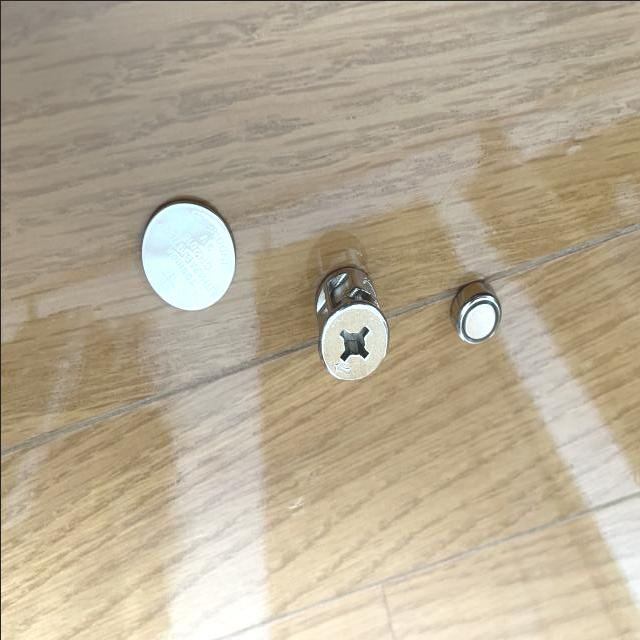COIN: (140, 198, 233, 310), (449, 280, 502, 344)
